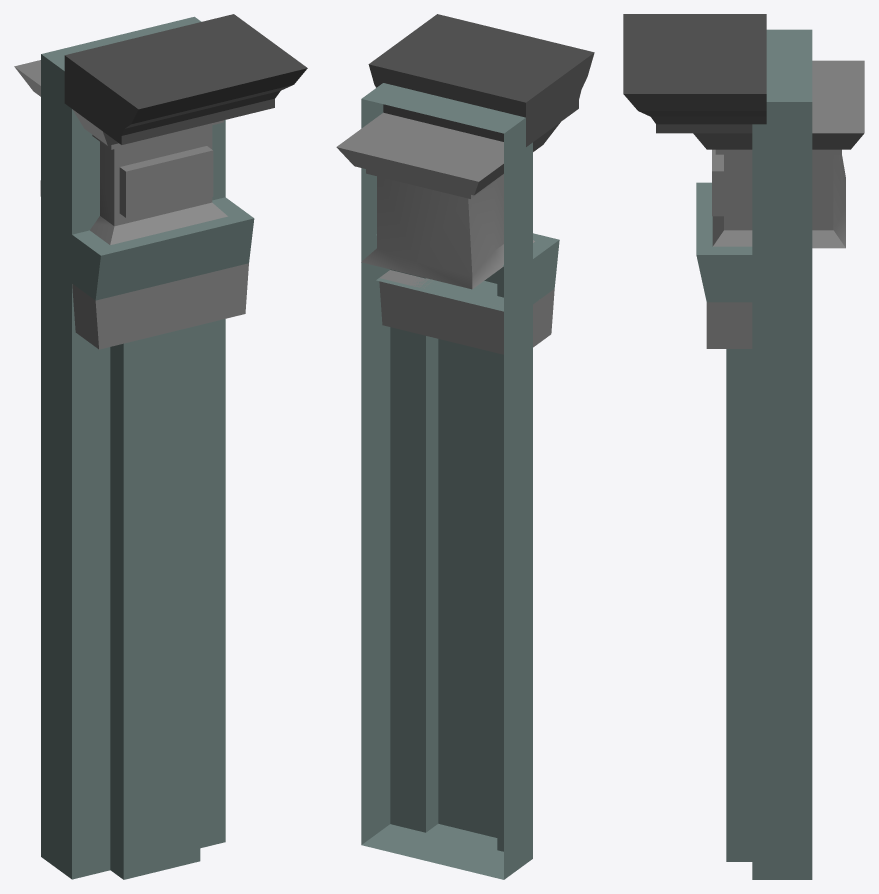
Rendered from SM_Build01_Column_03.fbx.
3 renders of one model, left to right at view 1: azimuth 30°, elevation 25°; view 2: azimuth 150°, elevation 25°; view 3: azimuth 270°, elevation 25°, orthographic. The views are drawn at different scales.
Visible parts, largest first — view 1: SM_Build01_Column_03; view 2: SM_Build01_Column_03; view 3: SM_Build01_Column_03.
Part boxes in pixels (x1=…): SM_Build01_Column_03: x1=14, y1=14, x2=307, y2=879; SM_Build01_Column_03: x1=336, y1=14, x2=594, y2=879; SM_Build01_Column_03: x1=623, y1=14, x2=864, y2=879.
Size of the model in its own units: 110 by 510 by 141.
